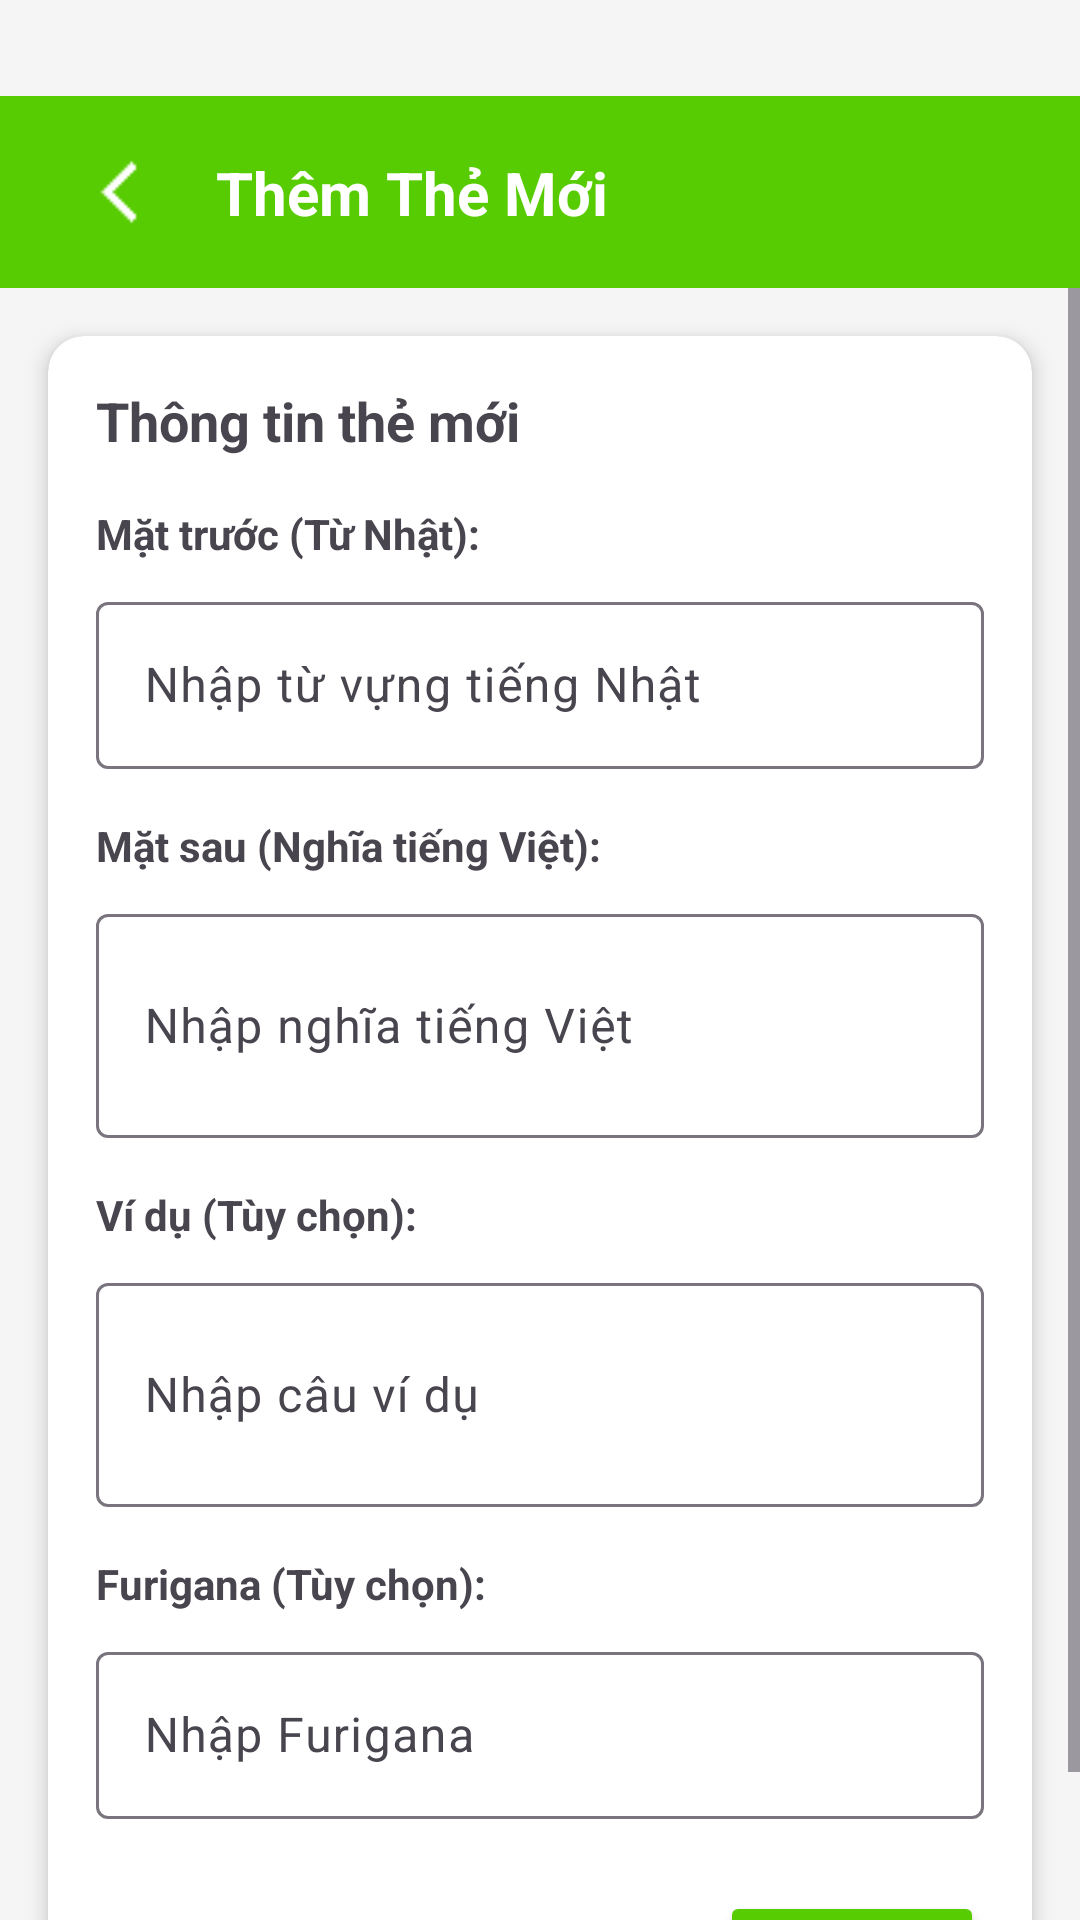

Screen size 1080w x 1920h. Icon name, then its box in pixels as (x1, y1, x2, y2):
Quay lại: (100, 161, 137, 223)
